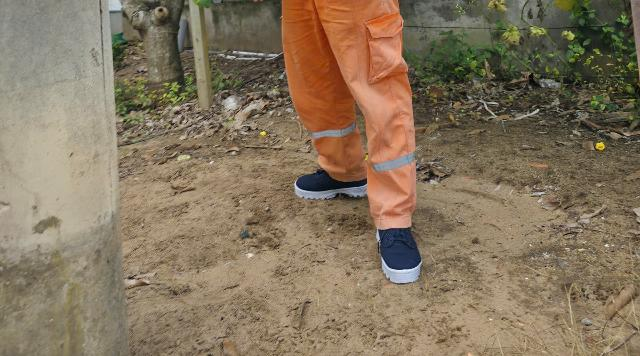shoes: (280, 161, 389, 216), (364, 210, 426, 290)
